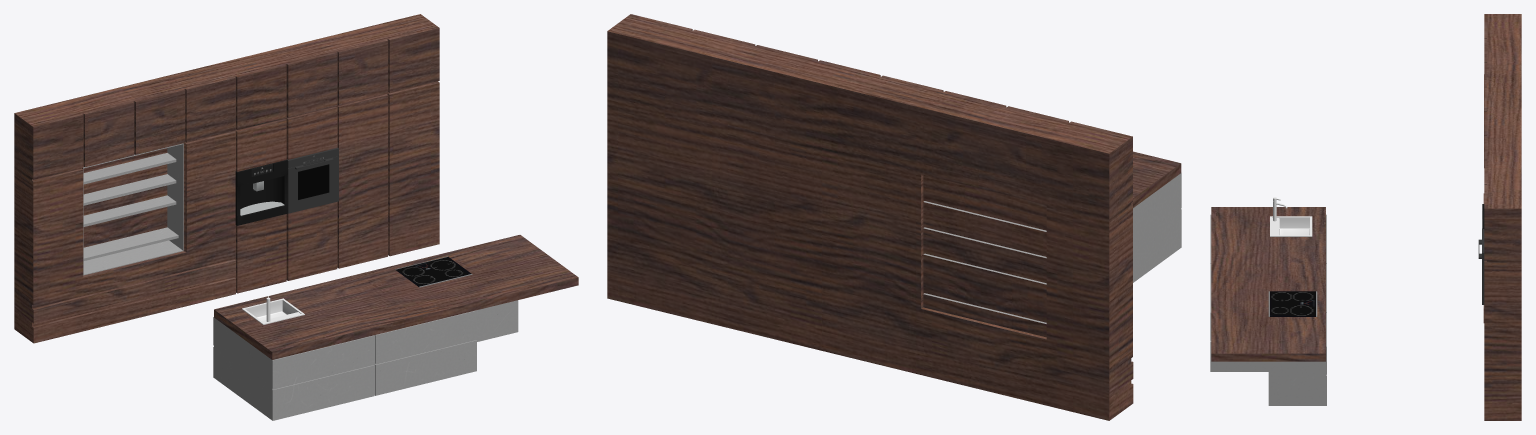
Rendered from kitchen_main.glb.
3 views of the same model, side by side, from view 1: azimuth 30°, elevation 25°; view 2: azimuth 150°, elevation 25°; view 3: azimuth 270°, elevation 25° (orthographic). The views are drawn at different scales.
Visible parts, largest first — view 1: Object_7, Object_3, Object_8, Object_2, Object_4, Object_5; view 2: Object_7, Object_3; view 3: Object_7, Object_3, Object_4, Object_5.
Part boxes in pixels (x1,y1,x2,y2): Object_7: (14, 14, 578, 359); Object_3: (83, 143, 518, 420); Object_8: (235, 159, 287, 225); Object_2: (287, 147, 338, 213); Object_4: (396, 257, 471, 286); Object_5: (242, 296, 304, 324); Object_7: (607, 14, 1181, 420); Object_3: (923, 173, 1181, 323); Object_7: (1211, 14, 1521, 420); Object_3: (1210, 214, 1326, 405); Object_4: (1270, 291, 1315, 316); Object_5: (1270, 197, 1312, 236).
Size of the model in its own units: 4.8 by 2.47 by 3.24.
7 materials, 5 textured.
